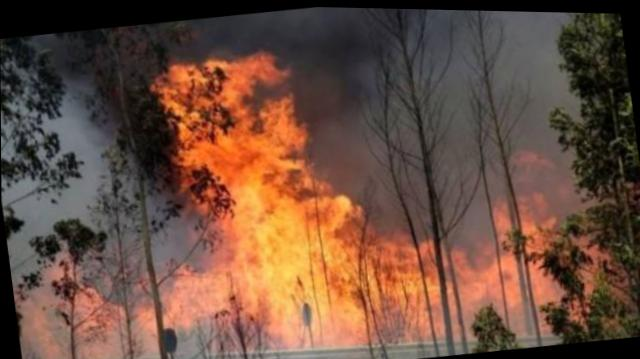fire: (17, 7, 598, 358)
